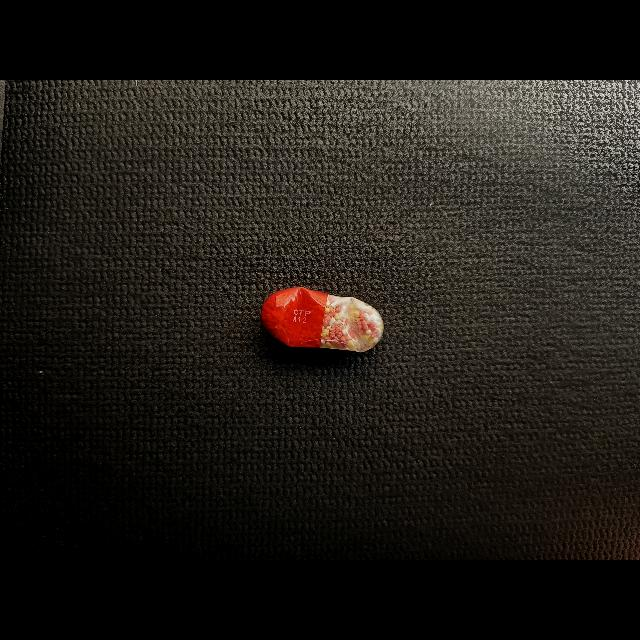Defective Capsule: (260, 286, 384, 352)
